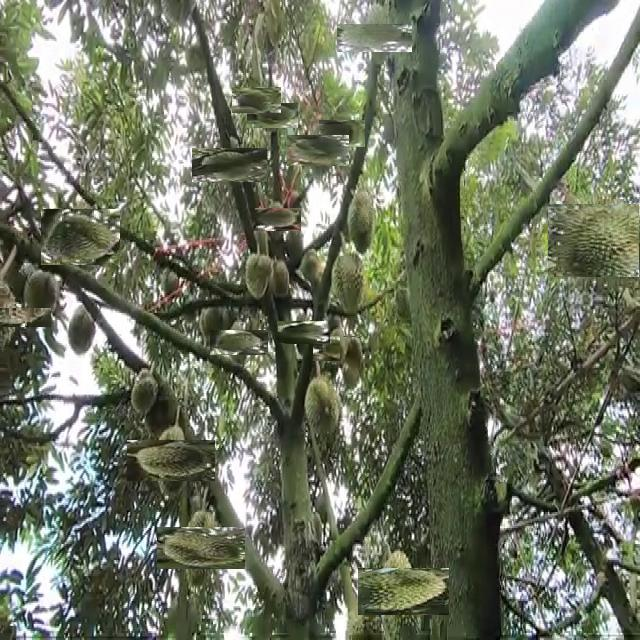durian: (556, 194, 640, 286), (369, 557, 438, 627), (46, 203, 114, 271), (169, 515, 234, 580), (139, 428, 204, 492), (328, 245, 368, 322), (202, 137, 257, 192), (348, 12, 401, 64), (304, 372, 342, 444), (294, 126, 342, 174), (346, 184, 378, 254), (24, 266, 58, 324), (346, 586, 383, 638), (241, 248, 273, 306), (65, 302, 98, 358), (218, 322, 260, 364), (0, 292, 35, 342), (130, 365, 163, 418), (253, 96, 292, 135), (340, 337, 367, 392), (284, 314, 323, 352), (237, 81, 275, 119), (319, 330, 356, 368), (323, 115, 360, 152), (260, 202, 295, 237), (266, 254, 293, 299), (285, 220, 306, 272), (198, 295, 222, 338)
